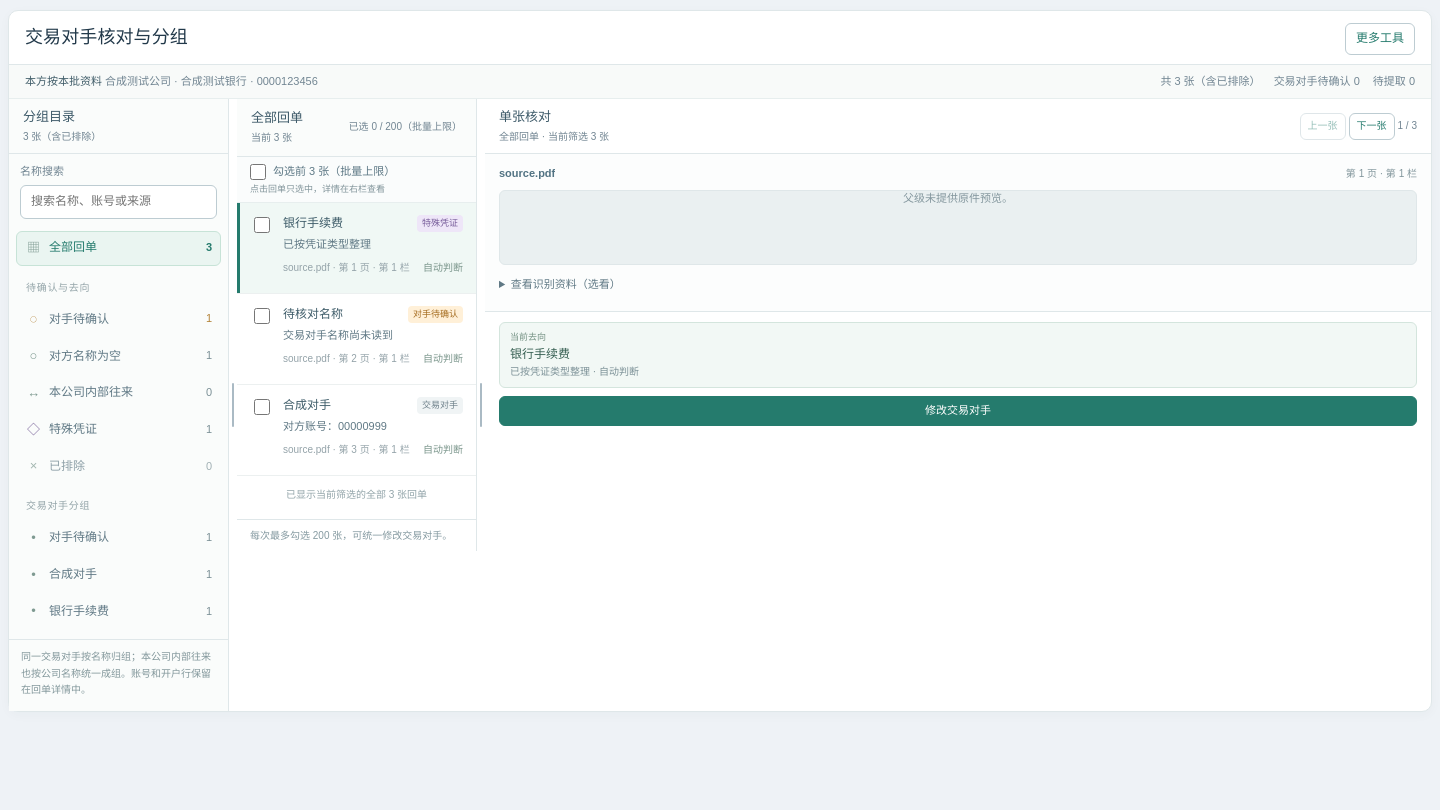
Test case: 空白筛选包含已识别收费空白项，与有名待核对分开且允许人工移组
Step 1. Click the button "○ 对方名称为空 1" → (118, 356), box [16,339,221,374]
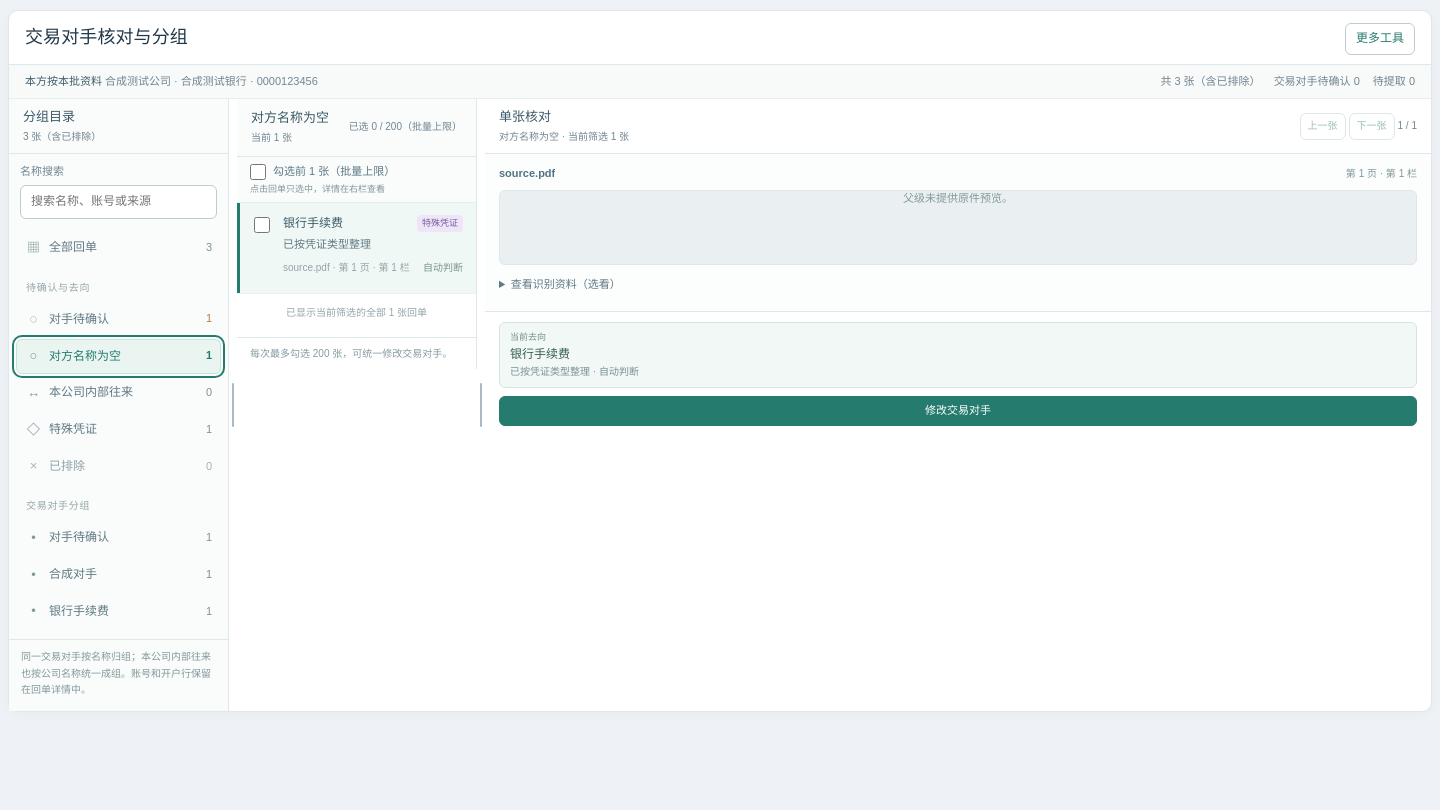
Expected: the checkbox labelled "勾选前 1 张（批量上限）" is shown, [250,164,266,180]
Now the button "source.pdf · 第 2 页" is gone
Step 2. Click the button "更多工具" → (1380, 39), box [1345,23,1415,55]
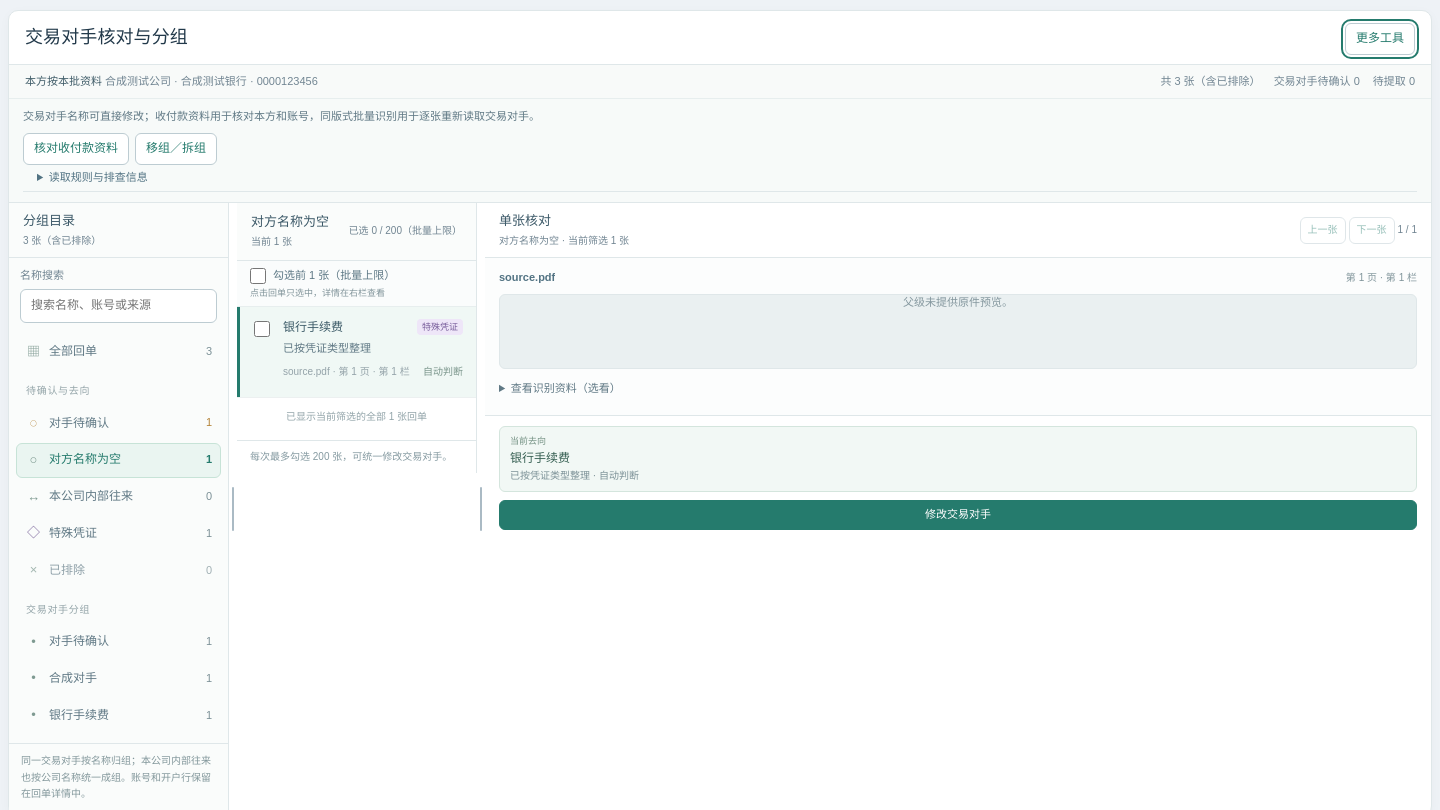
Step 3. Click the button "移组／拆组" → (176, 149), box [135,133,217,165]
(page scrolled)
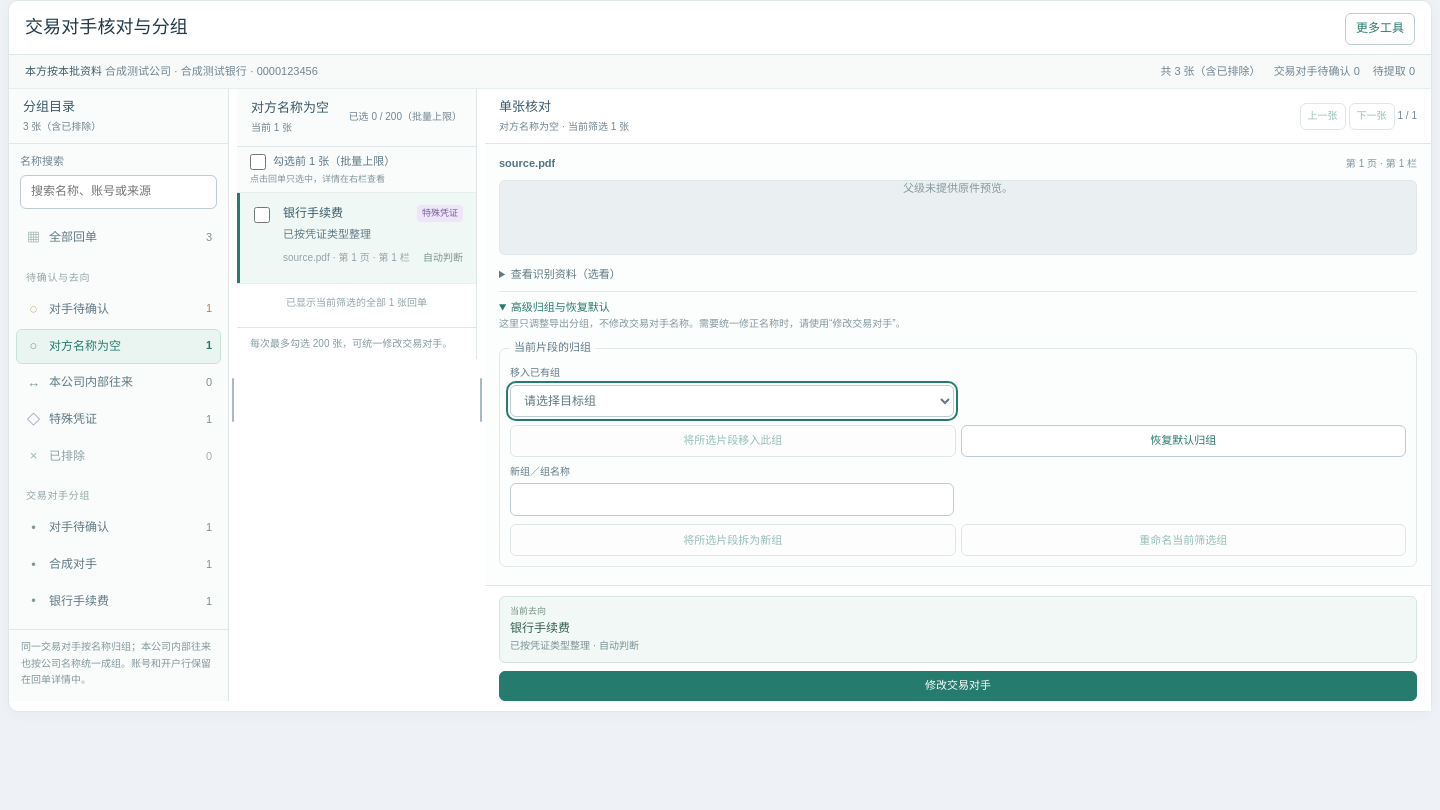
Step 4. Select "合成对手" in the dropdown labelled "移入已有组" → (732, 401), box [510,385,954,417]
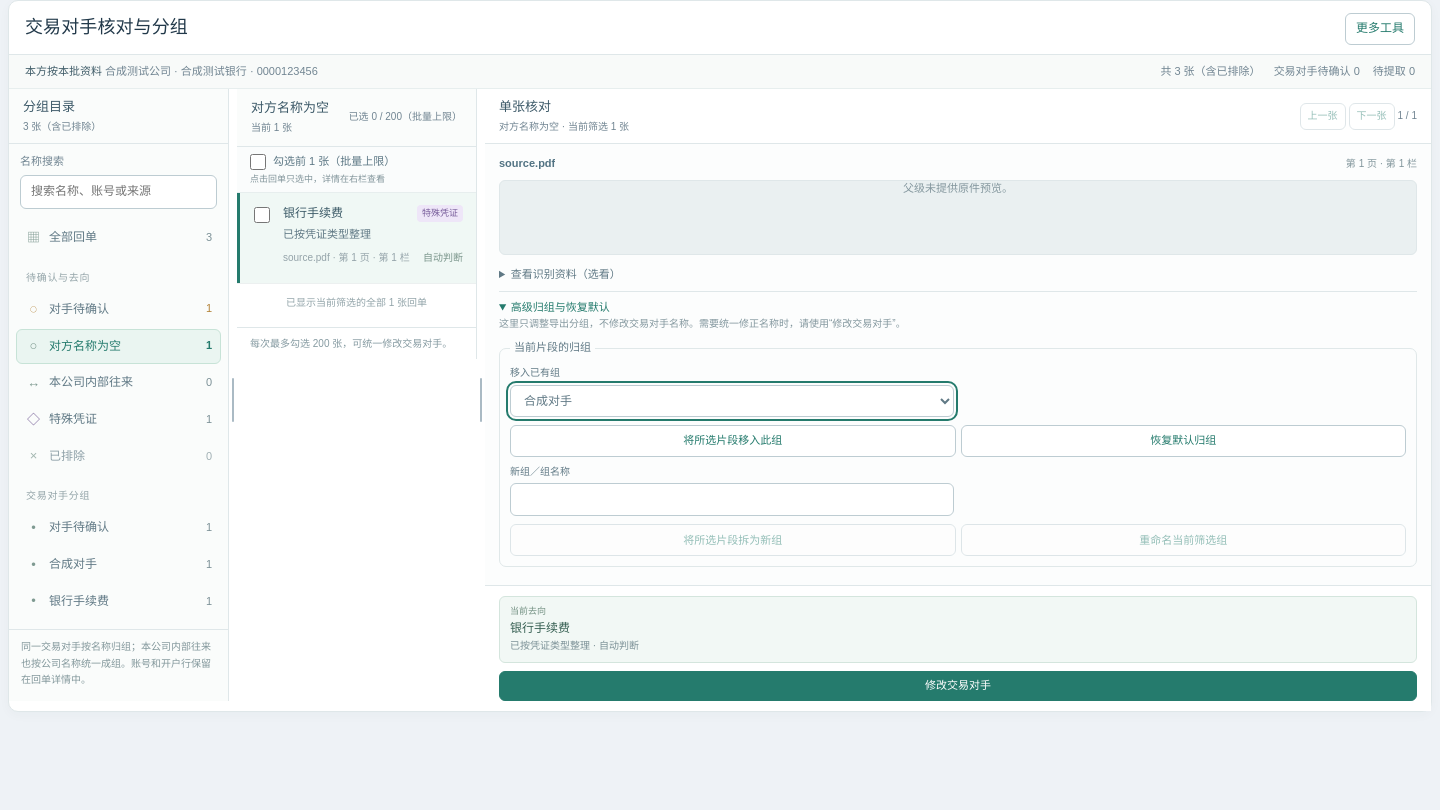
Now the button "将所选片段移入此组" is enabled, box [510,425,956,457]
